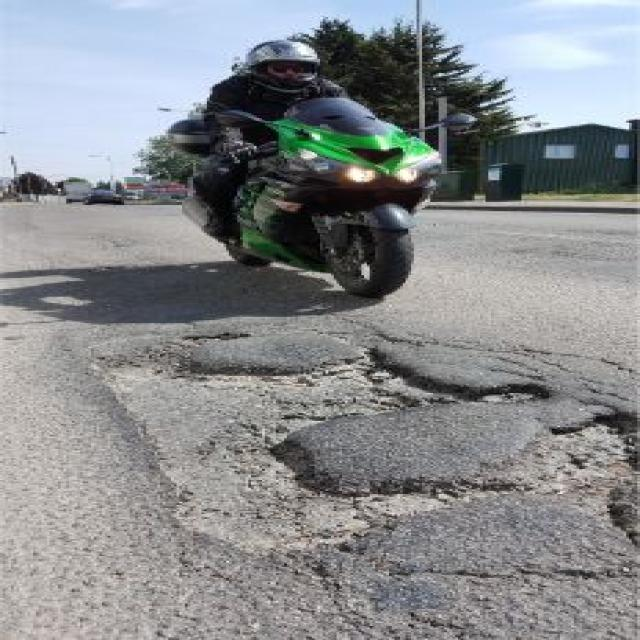Pothole: (84, 337, 550, 564)
